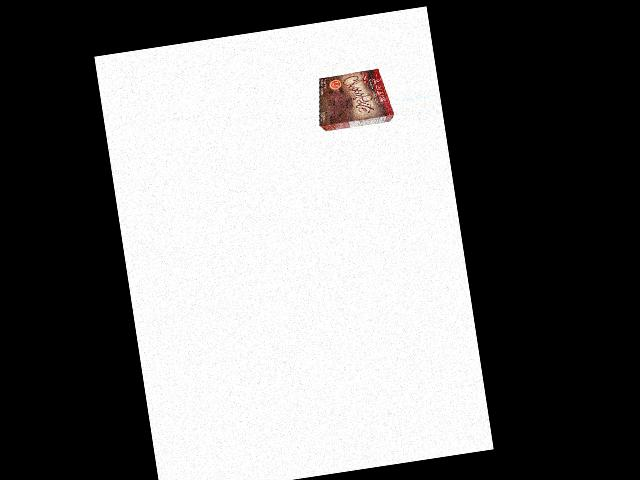chocolate: (312, 66, 393, 131)
